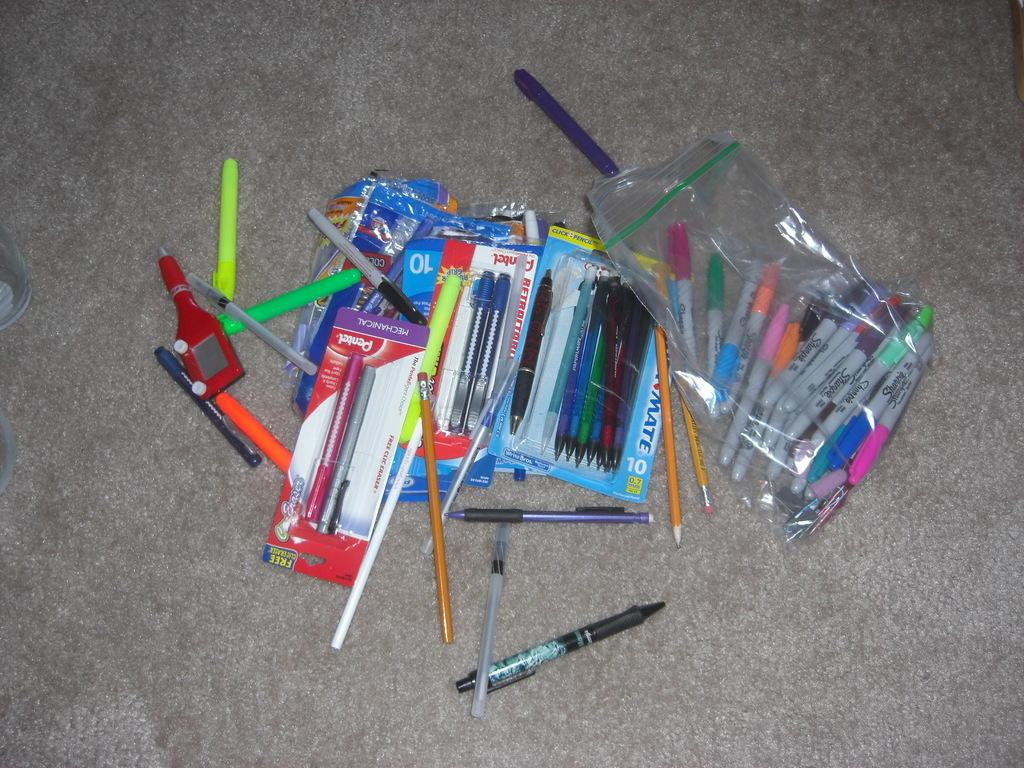pen: (721, 260, 932, 537), (532, 273, 665, 477), (454, 596, 665, 702), (308, 205, 431, 325), (188, 273, 323, 374), (156, 352, 263, 470), (159, 246, 235, 410), (511, 74, 618, 188), (186, 280, 313, 373), (301, 351, 361, 529), (424, 407, 493, 557), (404, 267, 461, 444), (212, 271, 361, 333), (504, 267, 555, 440), (326, 366, 376, 537), (474, 533, 508, 722), (440, 505, 654, 533), (207, 159, 237, 308), (703, 246, 726, 399), (673, 221, 692, 380)
